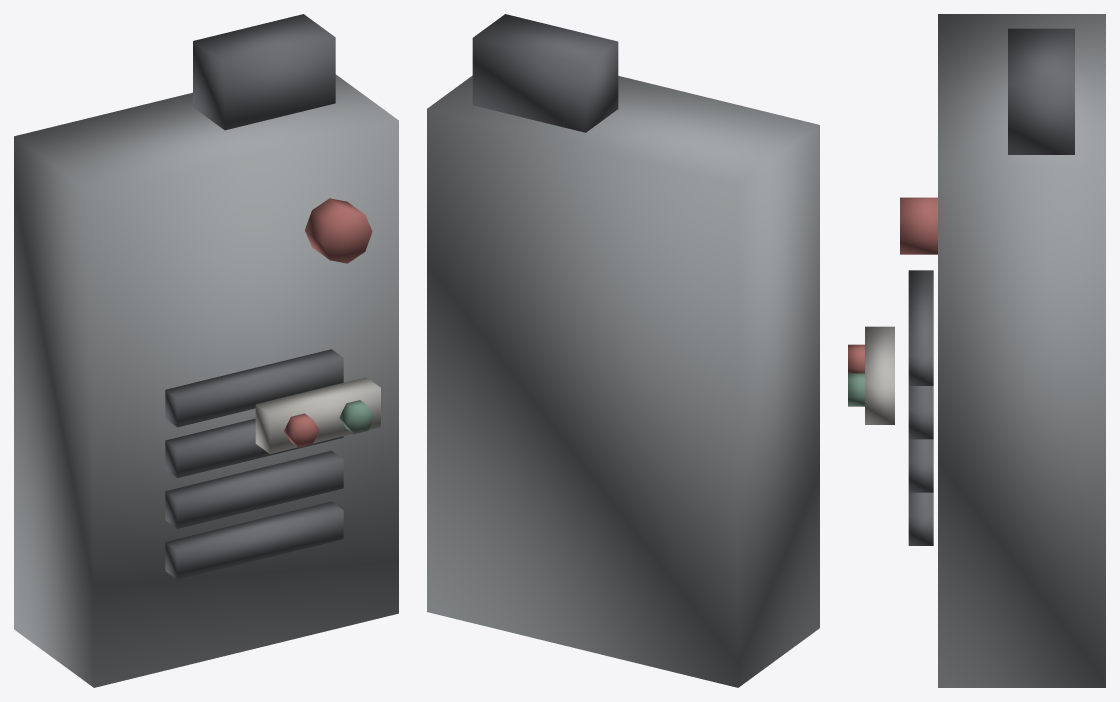
Rendered from wall_intercom__service.glb.
3 renders of one model, left to right at view 1: azimuth 30°, elevation 25°; view 2: azimuth 150°, elevation 25°; view 3: azimuth 270°, elevation 25°, orthographic. The views are drawn at different scales.
Parts seen in each view (by area): view 1: world; view 2: world; view 3: world.
Part boxes in pixels (left/top/right/bottom): world: left=14, top=14, right=398, bottom=687; world: left=427, top=14, right=819, bottom=687; world: left=848, top=14, right=1105, bottom=687.
Size of the model in its own units: 0.22 by 0.3855 by 0.1535.
